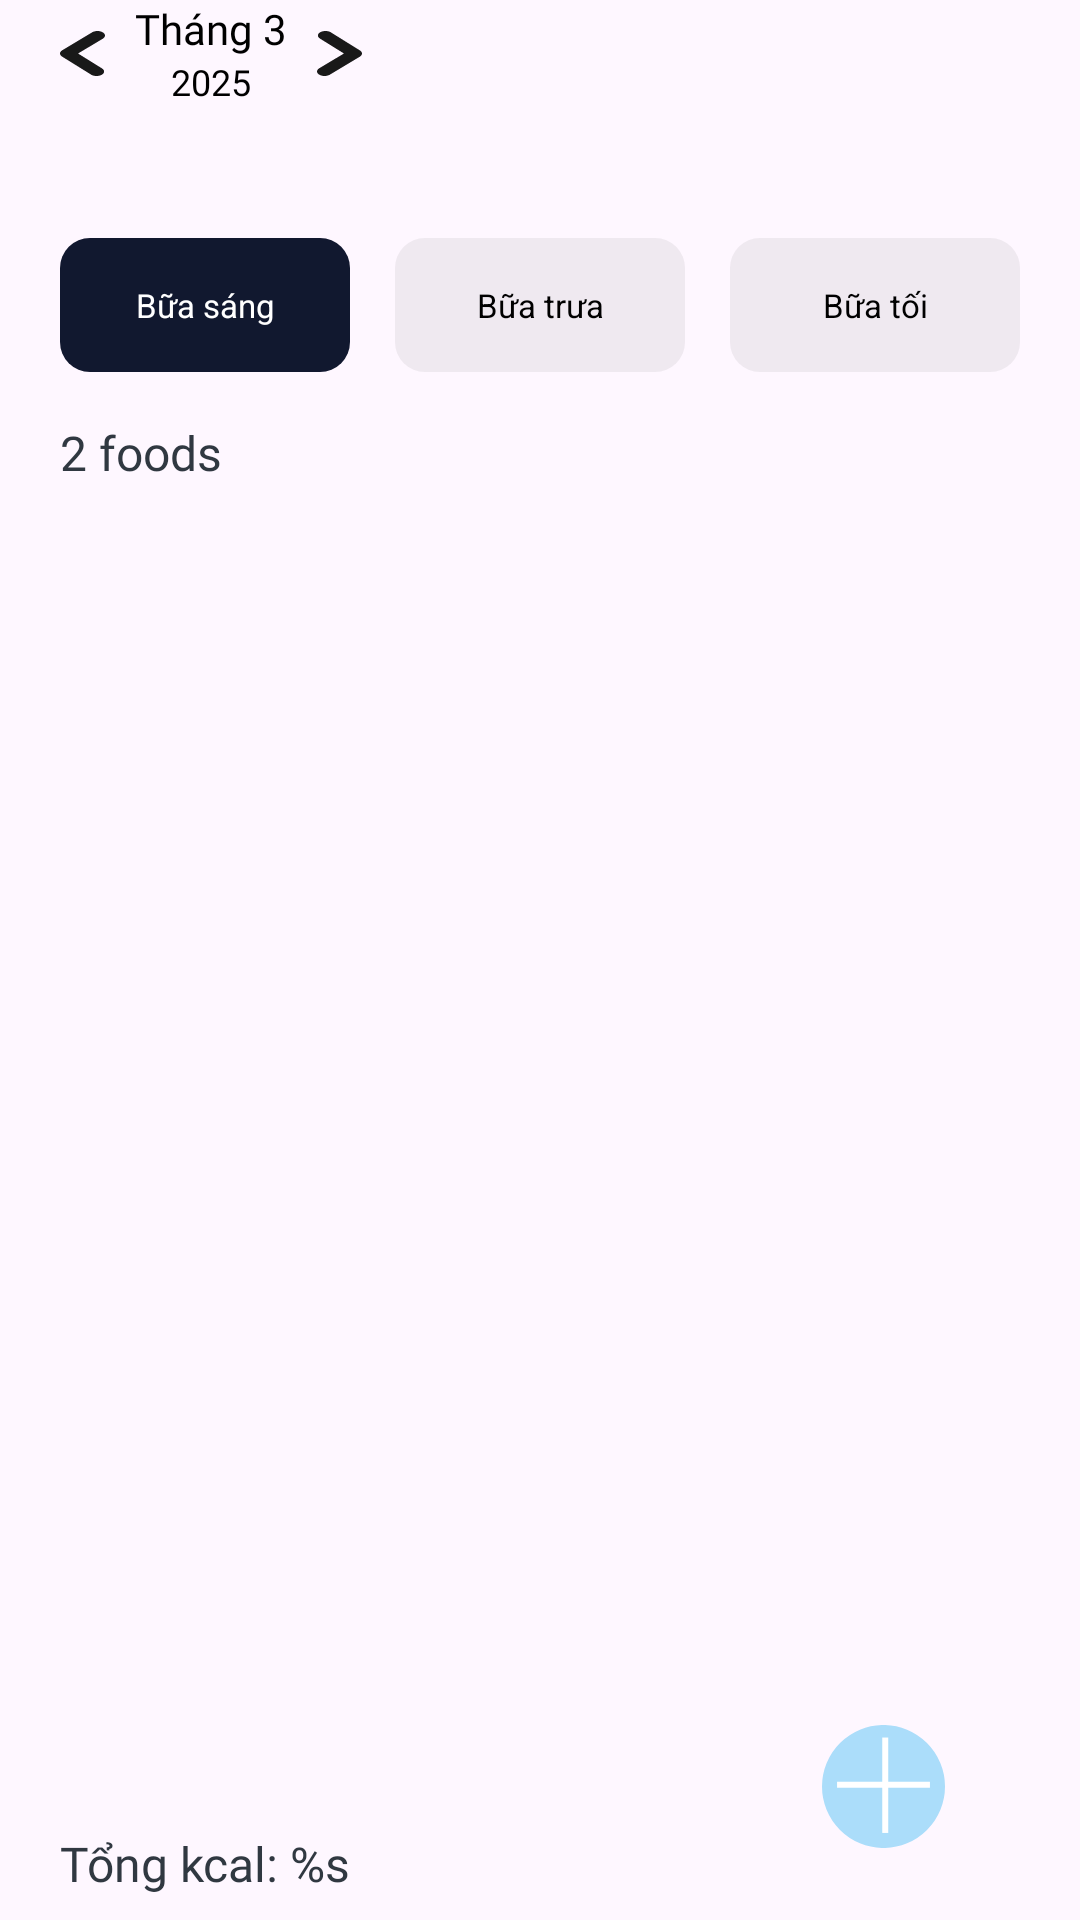

Icon bounding boxes for this 1080 × 1920 phone screenshot, format (x1,y1,x2,y2):
add food: (822,1725,945,1848)
last: (60,31,105,76)
next: (317,31,362,76)
